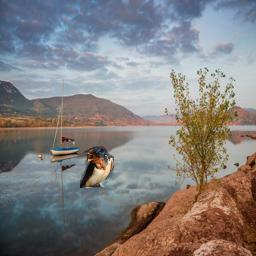Swallow: (80, 146, 114, 188)
